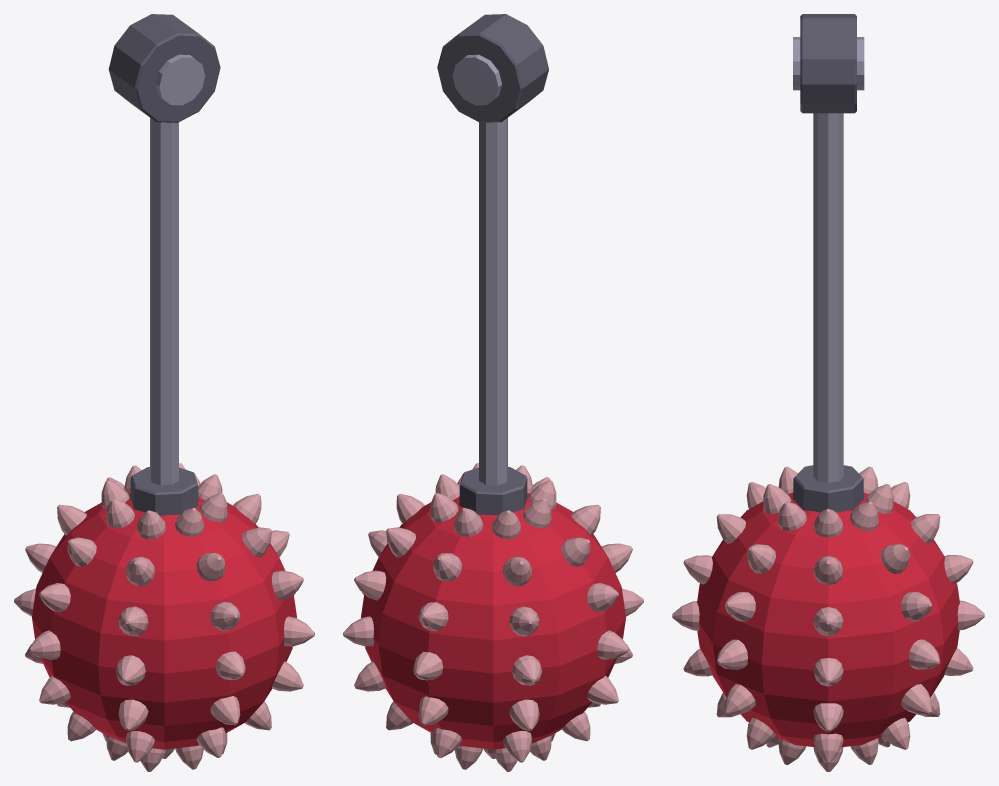
Rendered from Hurdle21.fbx.
3 views of the same model, side by side, from view 1: azimuth 30°, elevation 25°; view 2: azimuth 150°, elevation 25°; view 3: azimuth 270°, elevation 25° (orthographic).
Visible parts, largest first — view 1: Hurdle21; view 2: Hurdle21; view 3: Hurdle21.
Part boxes in pixels (<box>): Hurdle21: <box>14,14,314,771</box>; Hurdle21: <box>343,14,643,771</box>; Hurdle21: <box>672,14,984,771</box>.
Bounding box in the file's own units: 1.98 × 5.17 × 1.98.
Materials: 1 (1 with a texture image).
